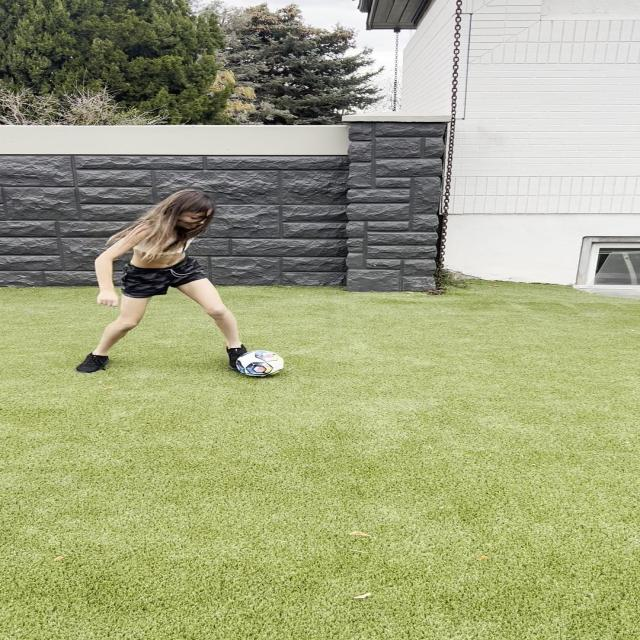Soccer Ball: (237, 349, 284, 376)
